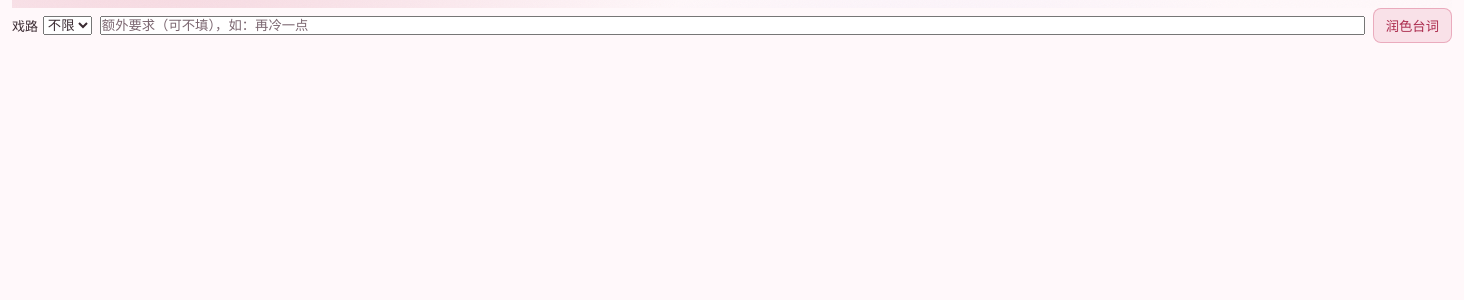
Test case: DialoguePolishReview › asks before archiving downstream work, and keeps the result when declined
Click the button "润色台词" at (1412, 26), box [1373,8,1452,43]
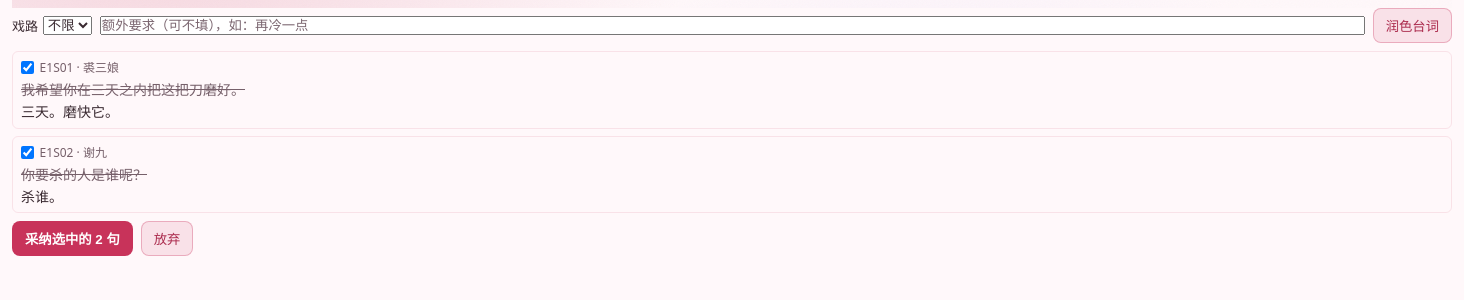
Click the button "采纳选中的 2 句" at (72, 239), box [12,221,133,256]
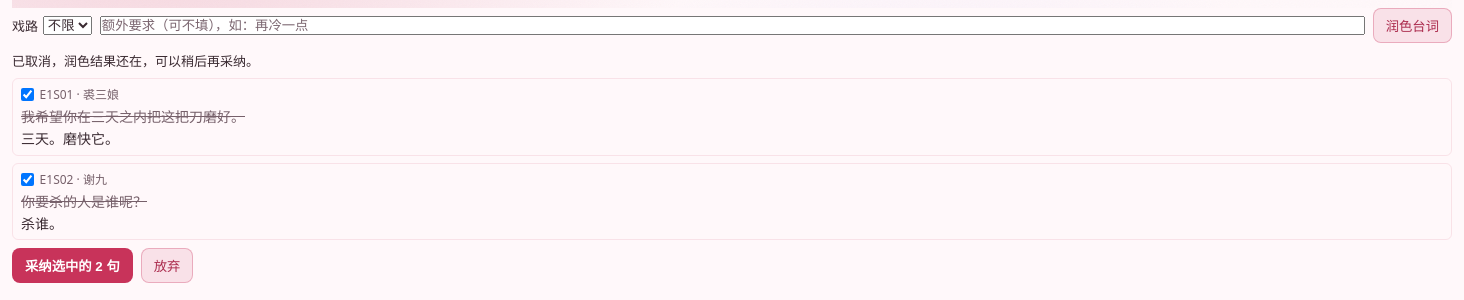
expect the number of list items is 2: met, box [12,78,1452,156]; [12,163,1452,240]
expect the text "已取消，润色结果还在，可以稍后再采纳。" is shown: met, box [12,52,259,70]
